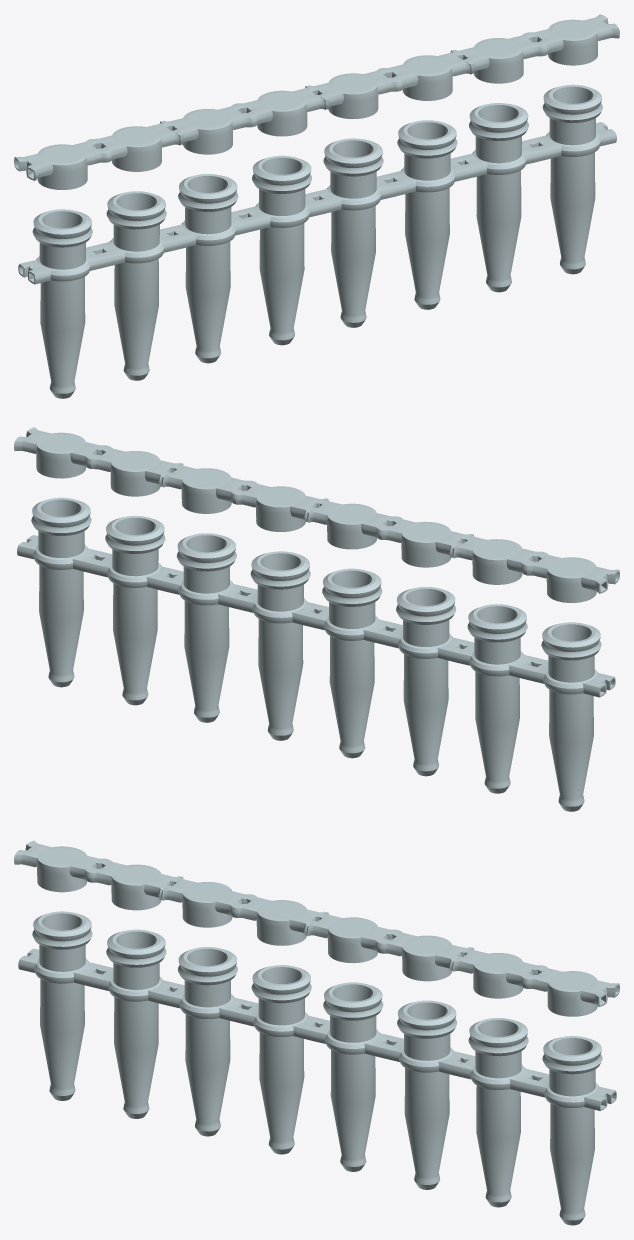
File: Strip tubes with caps.glb
The picture shows the model from 3 angles, top to bottom: view 1: azimuth 30°, elevation 25°; view 2: azimuth 150°, elevation 25°; view 3: azimuth 330°, elevation 25°; orthographic projection.
Visible parts, largest first — view 1: Cone.001; view 2: Cone.001; view 3: Cone.001.
Boxes of the visible parts, bbox=[...] form: Cone.001: bbox=[14, 14, 619, 398]; Cone.001: bbox=[14, 427, 619, 811]; Cone.001: bbox=[14, 840, 619, 1225].
Bounding box in the file's own units: 3.71 × 1.46 × 0.3283.
